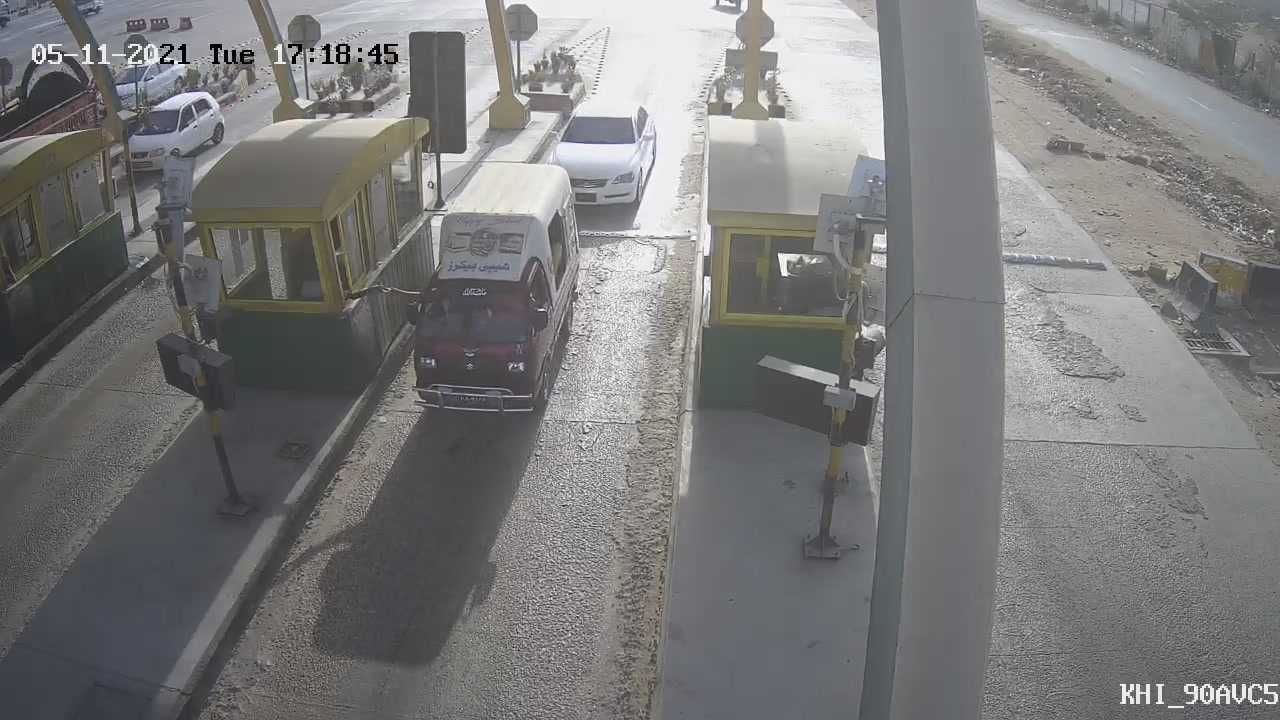F1: (391, 152, 607, 442)
